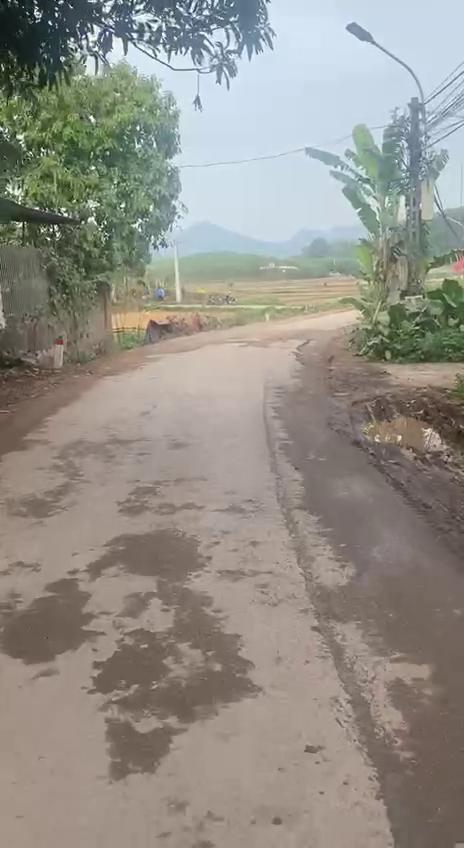pothole: (350, 410, 450, 456)
